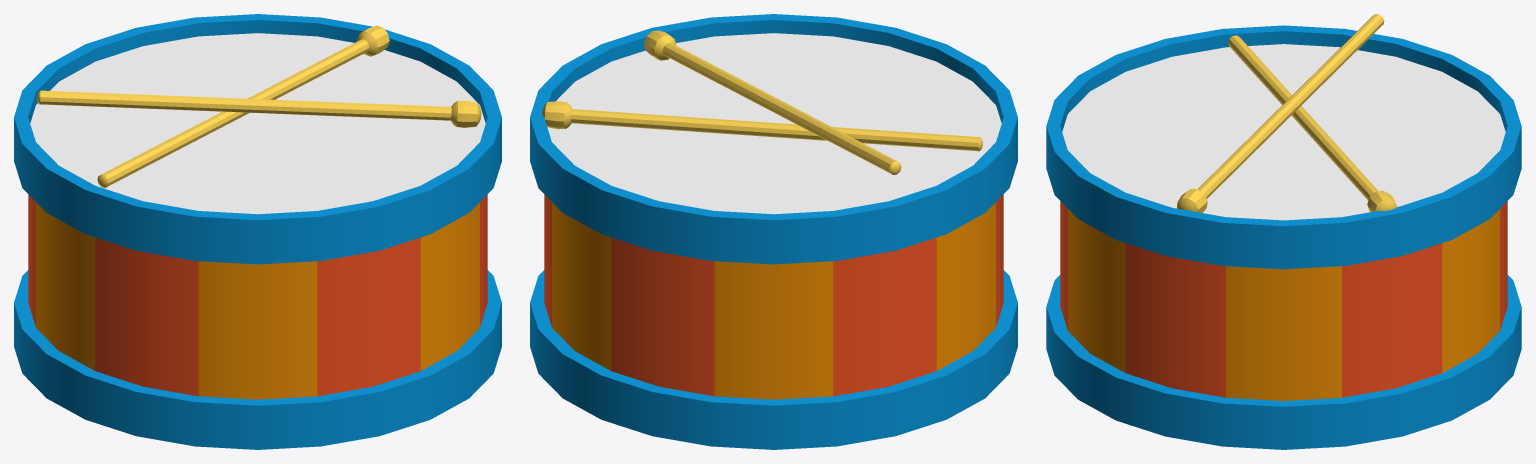
File: Drum.fbx
3 renders of one model, left to right at view 1: azimuth 30°, elevation 25°; view 2: azimuth 150°, elevation 25°; view 3: azimuth 270°, elevation 25°, orthographic. The views are drawn at different scales.
Parts seen in each view (by area): view 1: Drum; view 2: Drum; view 3: Drum.
Boxes of the visible parts, <box> form: Drum: <box>14,14,501,449</box>; Drum: <box>530,14,1017,449</box>; Drum: <box>1046,14,1521,449</box>.
Bounding box in the file's own units: 30.83 × 18.26 × 30.83.
Materials: 1 (1 with a texture image).
